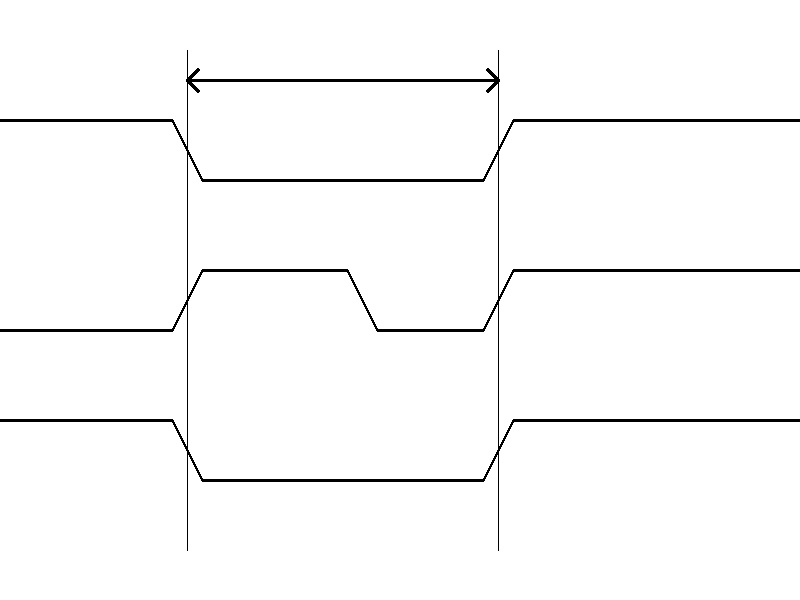double_arrow: (187, 65, 498, 95)
